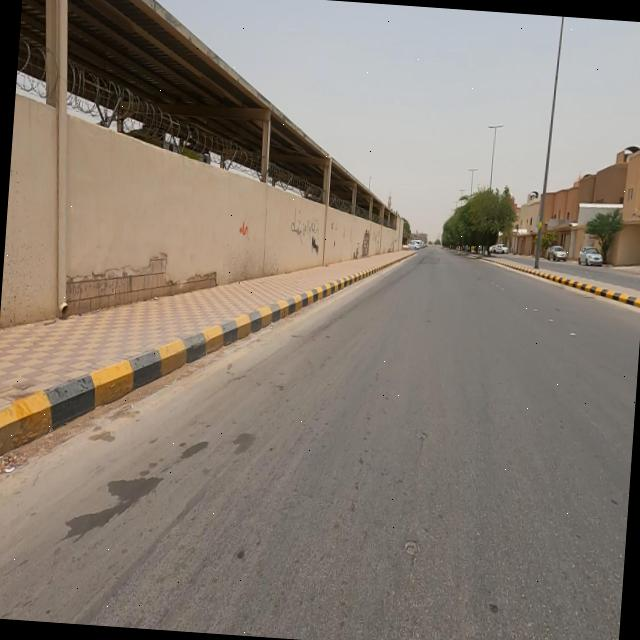Graffiti: (290, 208, 323, 258), (239, 221, 251, 237), (330, 222, 335, 232)
